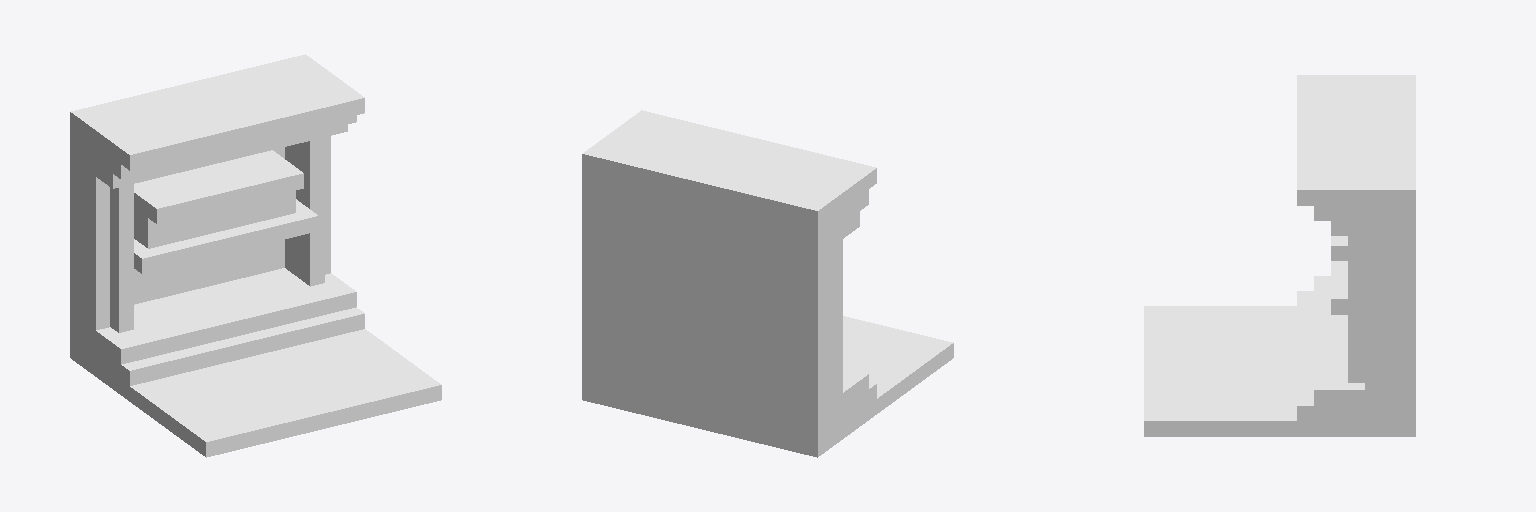
File: church-11-cata_wallc1.obj
3 renders of one model, left to right at view 1: azimuth 30°, elevation 25°; view 2: azimuth 150°, elevation 25°; view 3: azimuth 270°, elevation 25°, orthographic.
Parts seen in each view (by area): view 1: cata_wallc1; view 2: cata_wallc1; view 3: cata_wallc1.
Boxes of the visible parts, x1=… form: cata_wallc1: x1=70, y1=54, x2=441, y2=457; cata_wallc1: x1=582, y1=110, x2=953, y2=457; cata_wallc1: x1=1144, y1=75, x2=1415, y2=436.
Bounding box in the file's own units: 1.6 × 1.6 × 1.6.